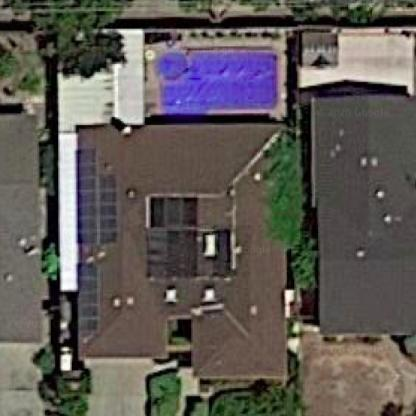solar_panel: (79, 141, 124, 252), (74, 259, 106, 341)
swimming_pool: (144, 33, 284, 124)
